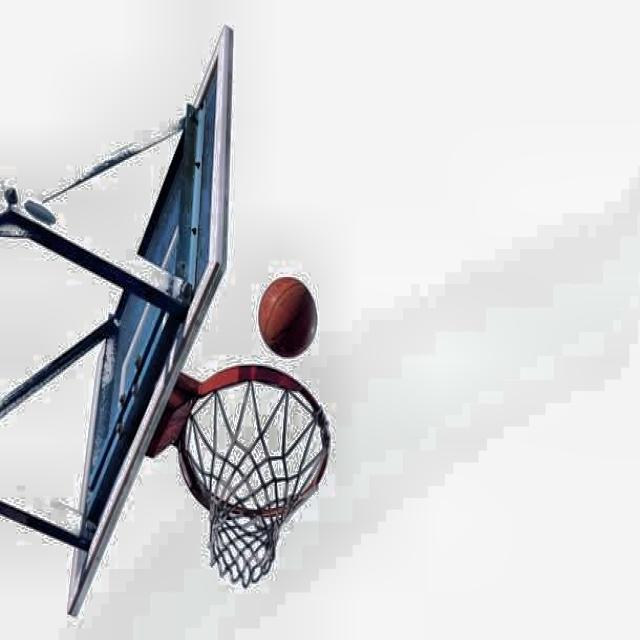board: (258, 276, 317, 358)
rim: (181, 363, 330, 584)
